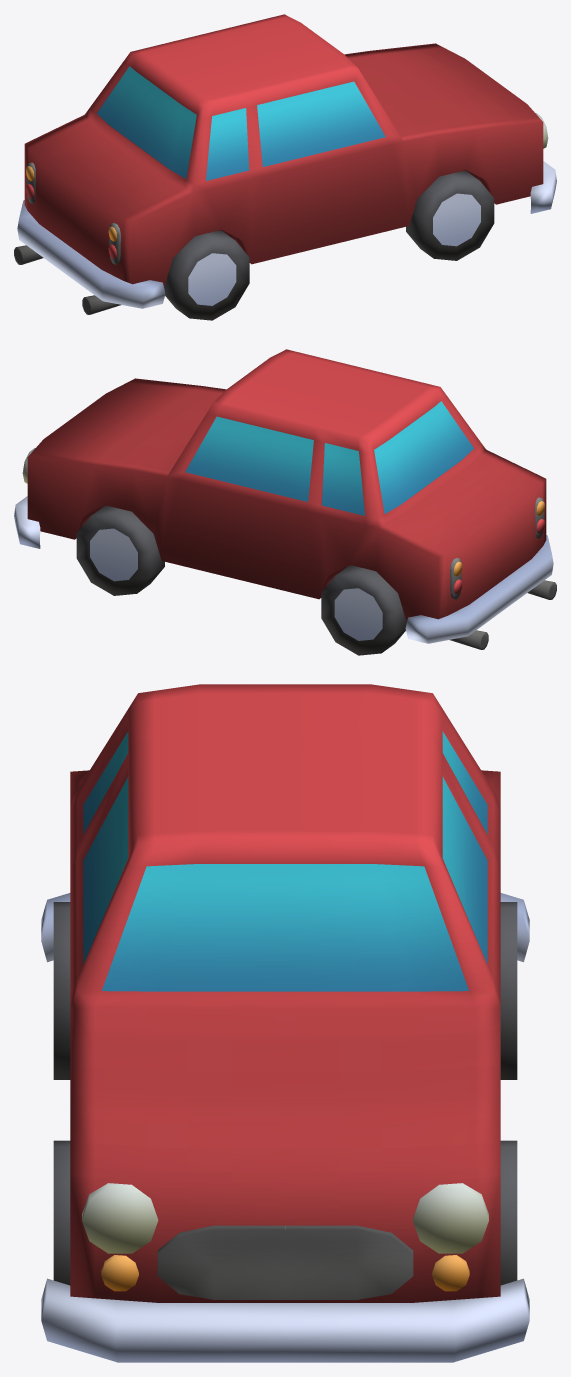
The model's file is car.fbx.
3 views of the same model, one above another, from view 1: azimuth 30°, elevation 25°; view 2: azimuth 150°, elevation 25°; view 3: azimuth 270°, elevation 25° (orthographic). The views are drawn at different scales.
Visible parts, largest first — view 1: pCylinder17; view 2: pCylinder17; view 3: pCylinder17.
Part boxes in pixels (box(x1,y1,x2,y2)): pCylinder17: box(14, 14, 556, 320); pCylinder17: box(14, 349, 556, 655); pCylinder17: box(41, 684, 529, 1362).
Bounding box in the file's own units: 10.57 × 4.35 × 4.84.
1 material, 1 textured.
